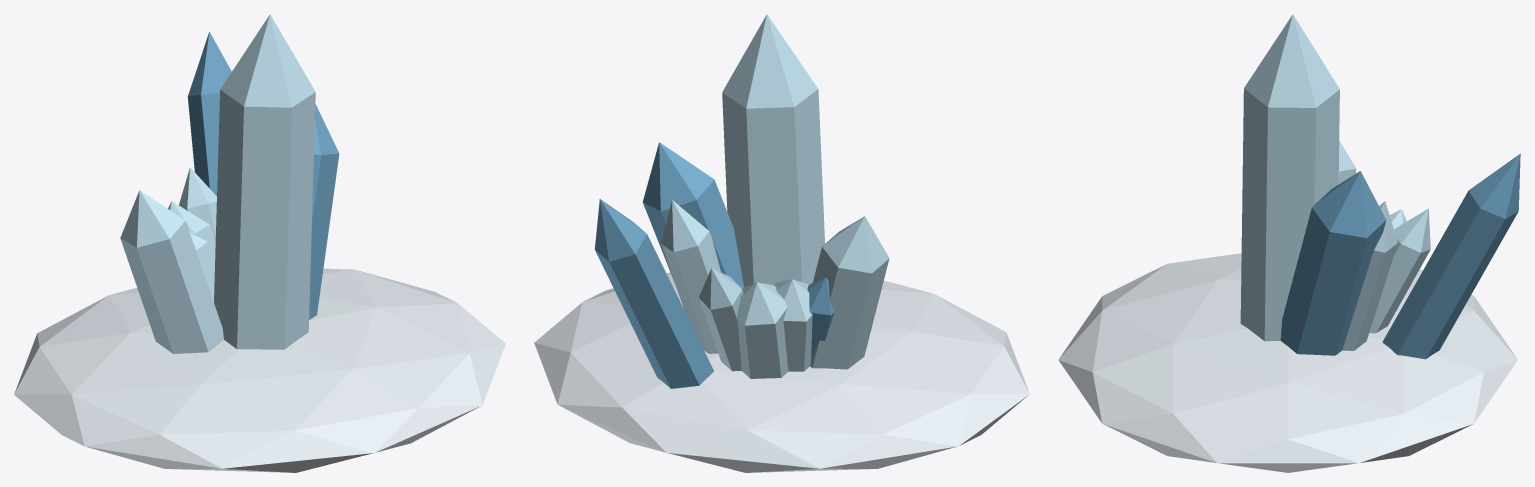
The model's file is runtime.glb.
3 views of the same model, side by side, from view 1: azimuth 30°, elevation 25°; view 2: azimuth 150°, elevation 25°; view 3: azimuth 270°, elevation 25° (orthographic).
Visible parts, largest first — view 1: frozen_crystal_snow_noshadow_nocol, frozen_crystal_ice_nocol, frozen_crystal_deep_nocol; view 2: frozen_crystal_snow_noshadow_nocol, frozen_crystal_ice_nocol, frozen_crystal_deep_nocol; view 3: frozen_crystal_snow_noshadow_nocol, frozen_crystal_ice_nocol, frozen_crystal_deep_nocol.
Part boxes in pixels (x1,y1,x2,y2): frozen_crystal_snow_noshadow_nocol: (14, 268, 505, 472); frozen_crystal_ice_nocol: (120, 14, 315, 353); frozen_crystal_deep_nocol: (187, 31, 339, 319); frozen_crystal_snow_noshadow_nocol: (534, 272, 1029, 472); frozen_crystal_ice_nocol: (661, 14, 889, 378); frozen_crystal_deep_nocol: (594, 142, 834, 388); frozen_crystal_snow_noshadow_nocol: (1058, 253, 1517, 472); frozen_crystal_ice_nocol: (1240, 14, 1430, 350); frozen_crystal_deep_nocol: (1280, 153, 1520, 359).
Size of the model in its own units: 3.6 by 3.18 by 3.4.
